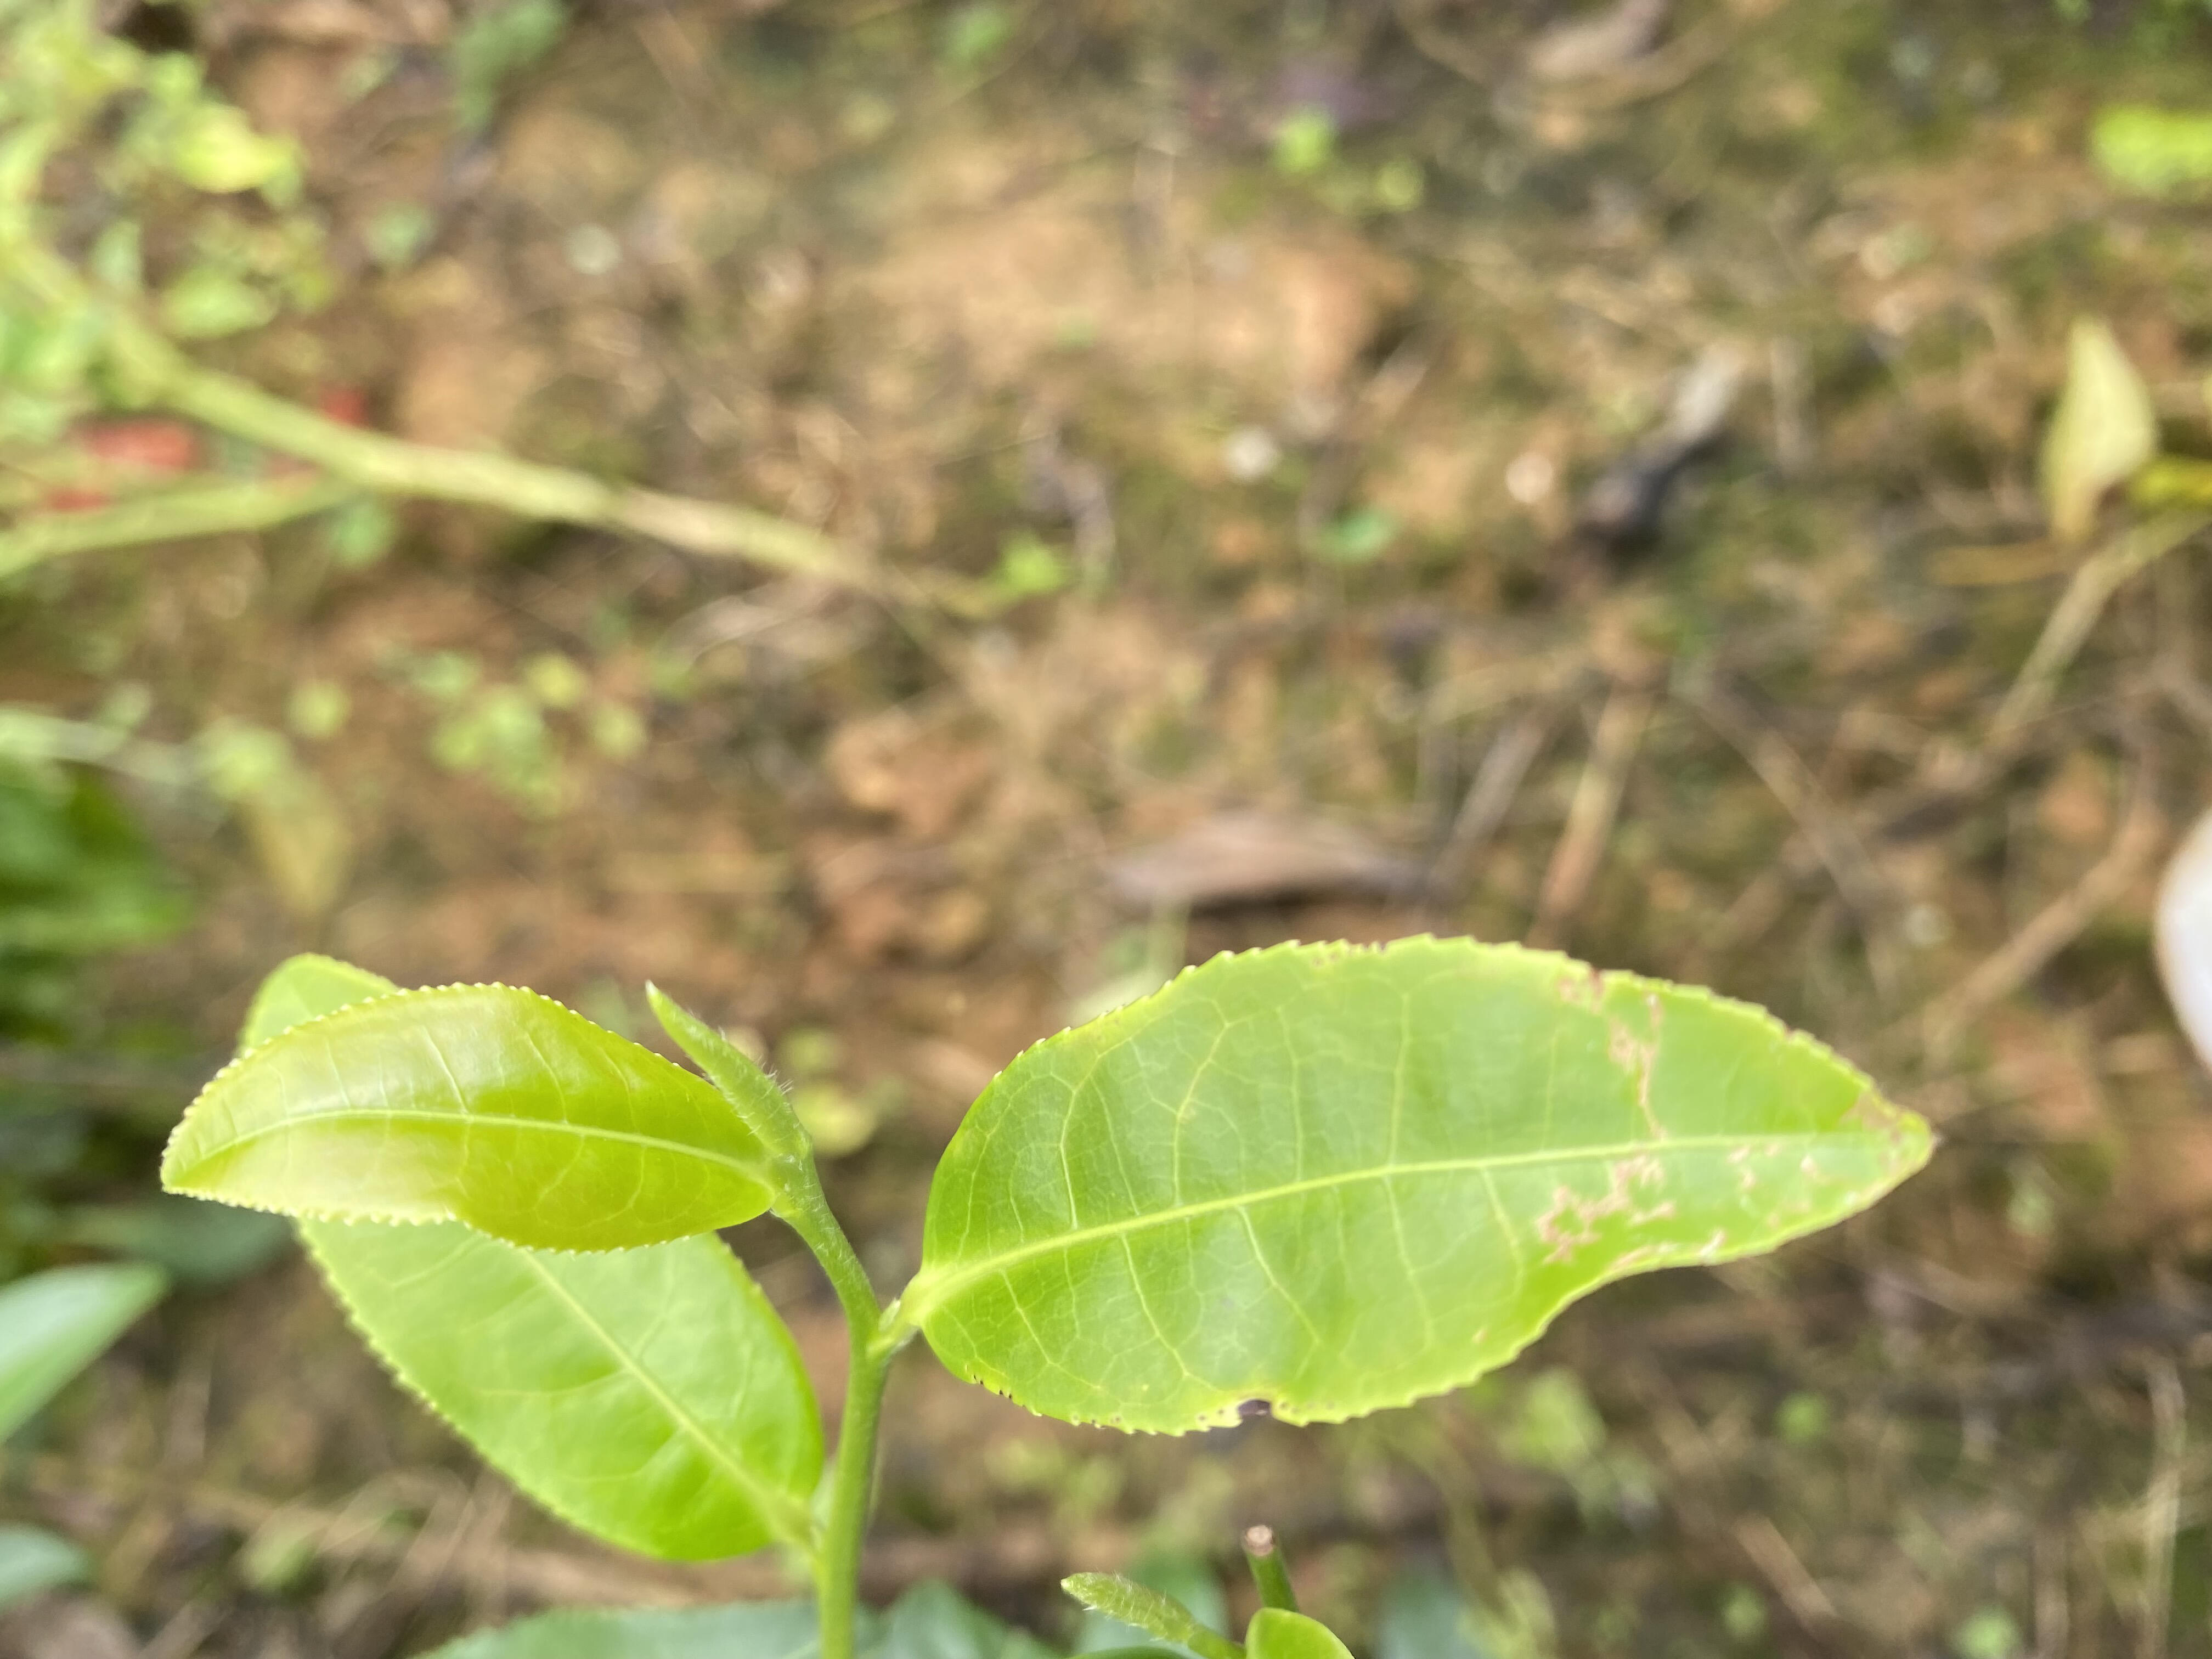healthy: (232, 953, 822, 1565), (155, 979, 775, 1249)
tanju_low: (920, 932, 1937, 1434)
